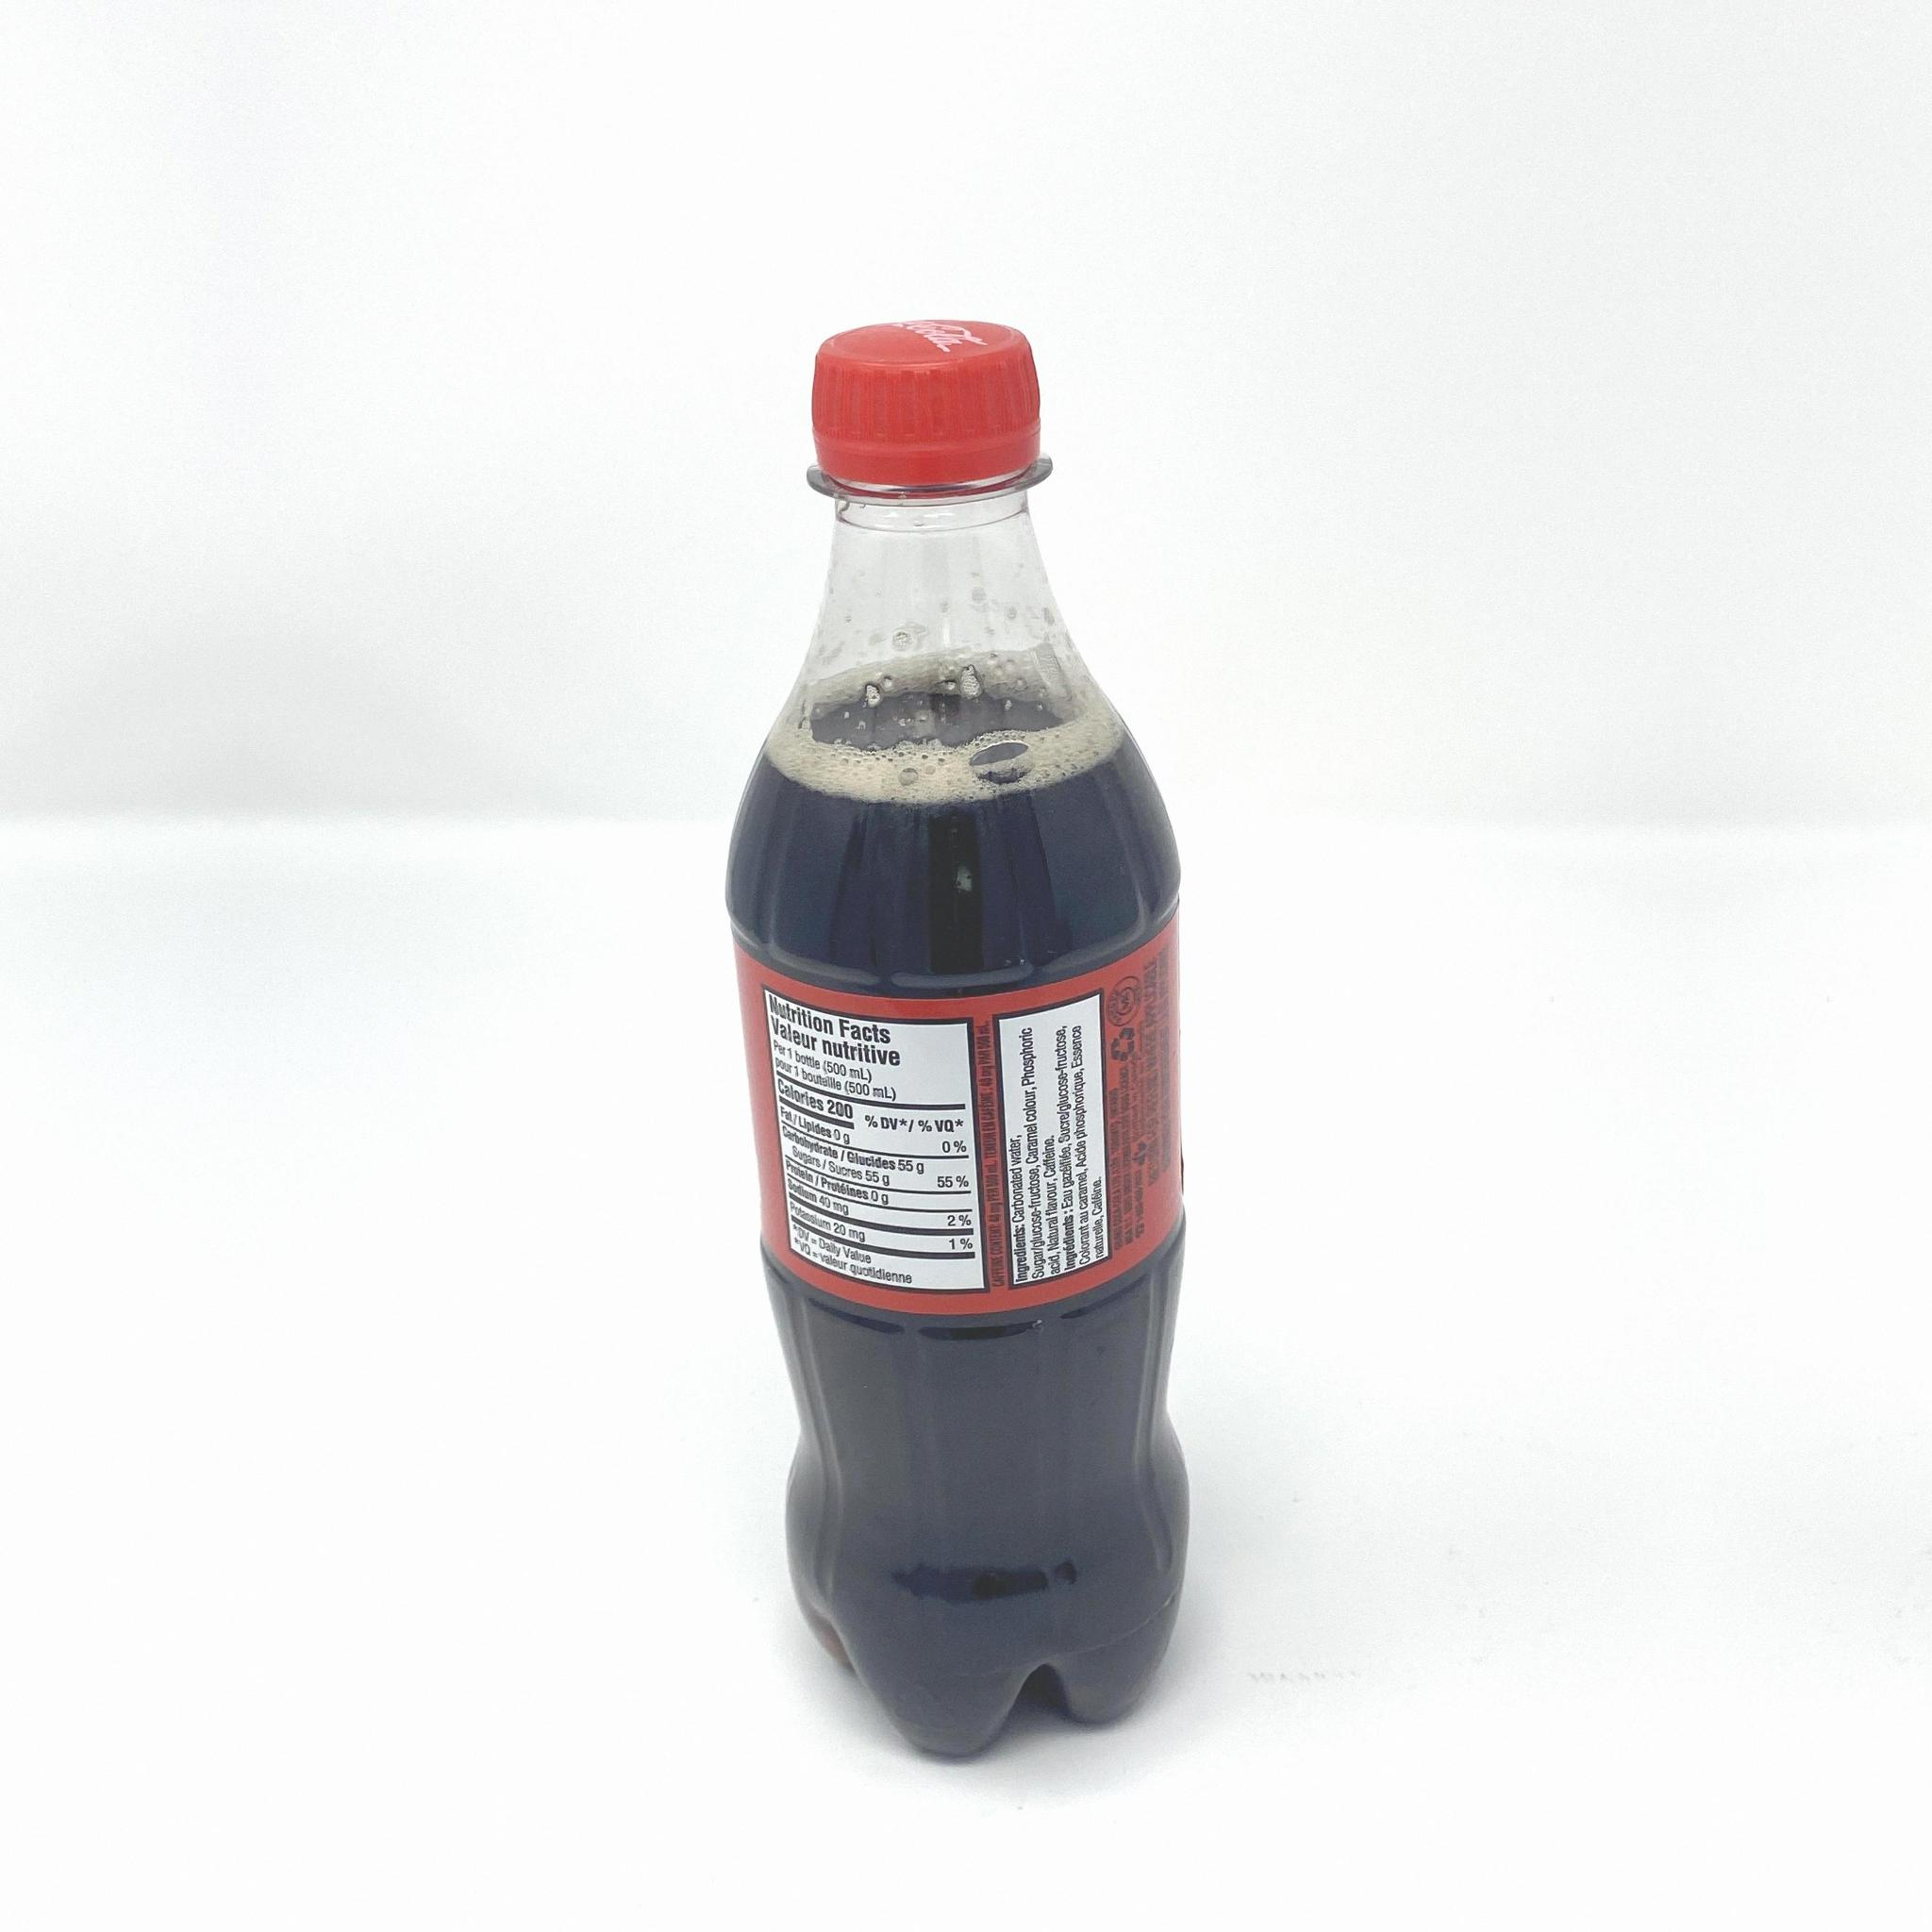PET: (724, 317, 1192, 1759)
cocacola: (724, 317, 1192, 1759)
plastic: (724, 317, 1192, 1759)
soft-drink: (724, 317, 1192, 1759)
